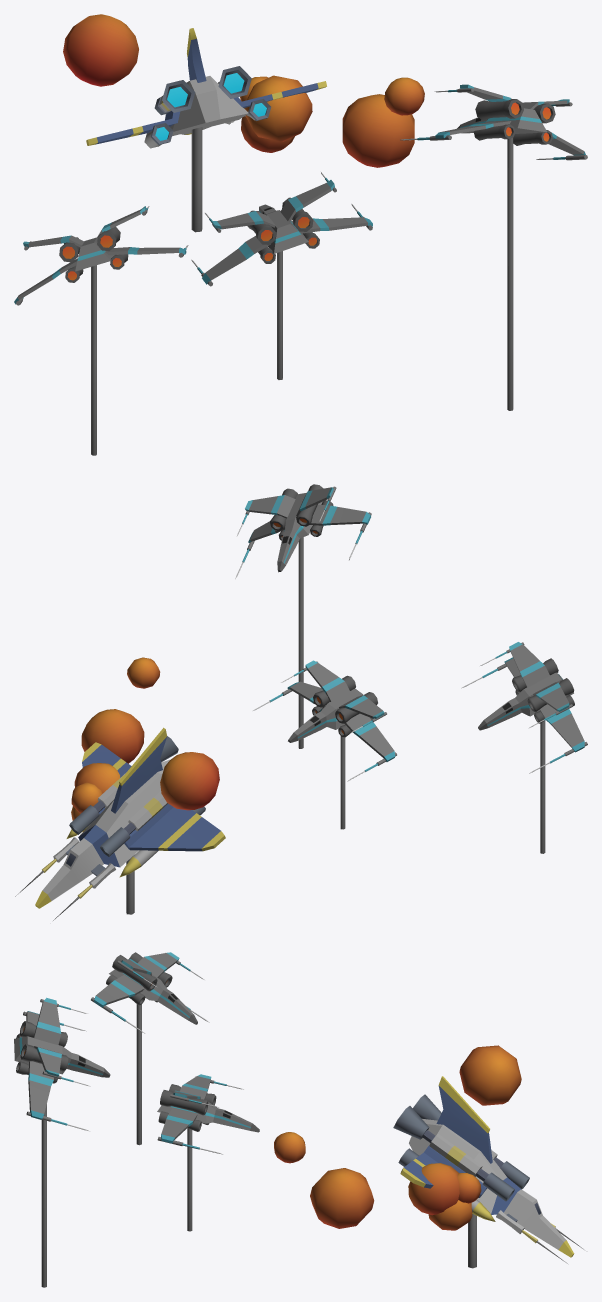
The model's file is OBJ_SpaceshipBattleModel.fbx.
The picture shows the model from 3 angles, top to bottom: view 1: azimuth 30°, elevation 25°; view 2: azimuth 150°, elevation 25°; view 3: azimuth 270°, elevation 25°; orthographic projection. The views are drawn at different scales.
Visible parts, largest first — view 1: OBJ_SpaceshipBattleModel; view 2: OBJ_SpaceshipBattleModel; view 3: OBJ_SpaceshipBattleModel.
Boxes of the visible parts, box(x1,y1,x2,y2) form: OBJ_SpaceshipBattleModel: box(14, 14, 587, 455); OBJ_SpaceshipBattleModel: box(15, 484, 587, 920); OBJ_SpaceshipBattleModel: box(14, 952, 583, 1287).
Size of the model in its own units: 113 by 70.74 by 135.
